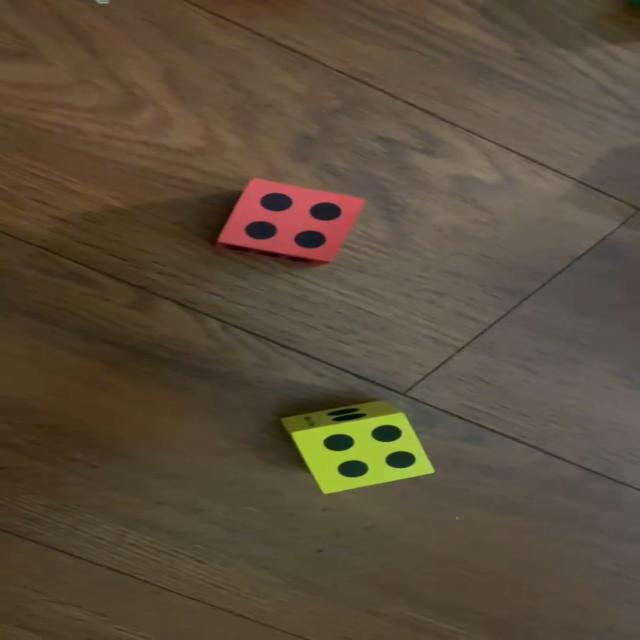red_block: (219, 178, 365, 267)
